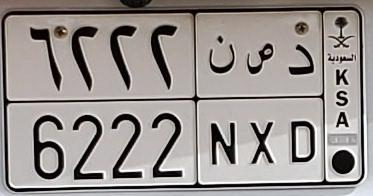2: (108, 24, 146, 179), (70, 24, 105, 180), (151, 23, 183, 179)
6: (28, 25, 66, 180)
D: (288, 43, 317, 164)
N: (207, 35, 238, 165)
X: (246, 42, 276, 164)
